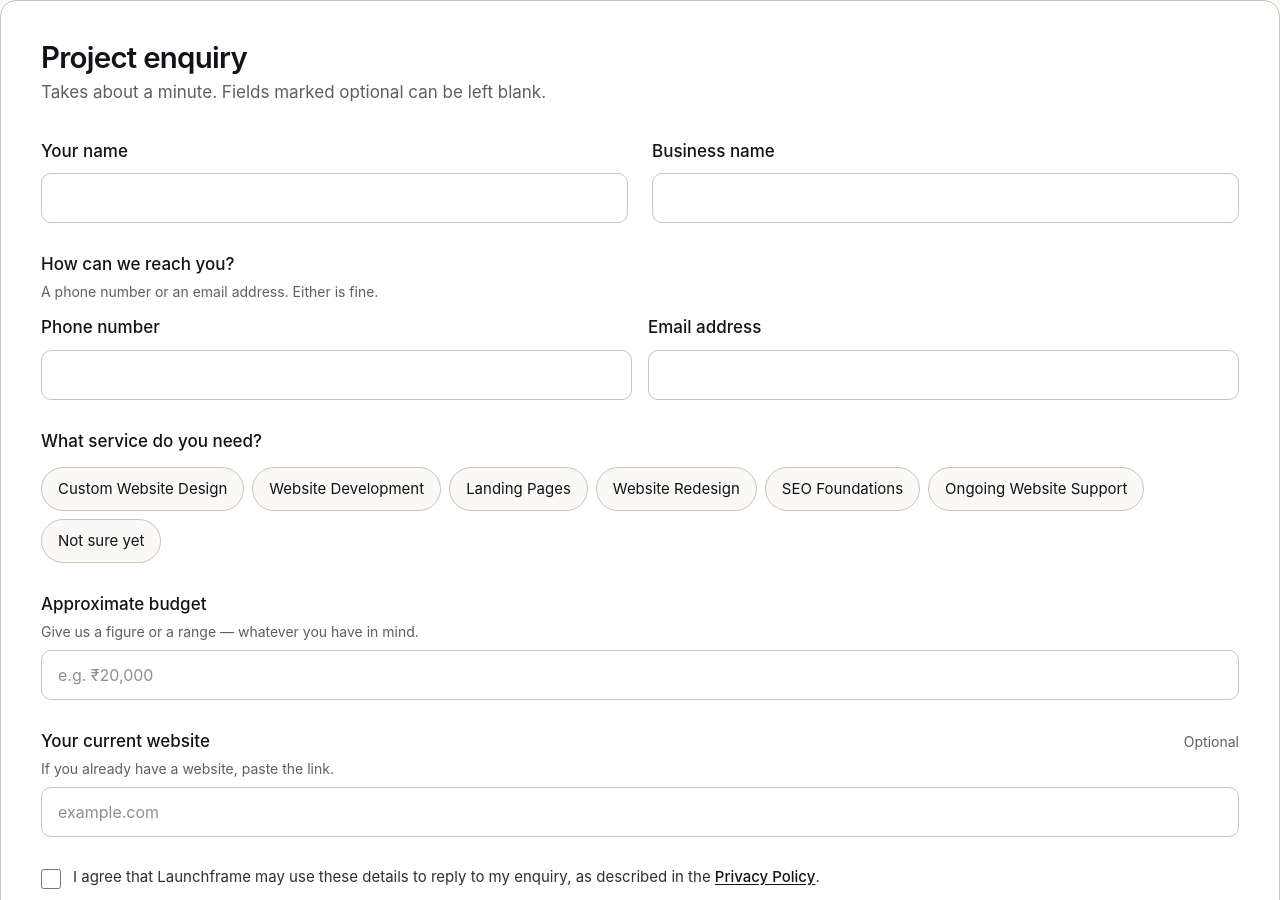
Scenario: EnquiryForm › accepts a phone number instead of an email
The width and height of the screenshot is (1280, 900).
Type "Sam Rivera" into the field labelled "Your name" at x=334, y=198, box [41,173,628,223]
Type "Rivera Plumbing" into the field labelled "Business name" at x=946, y=198, box [652,173,1239,223]
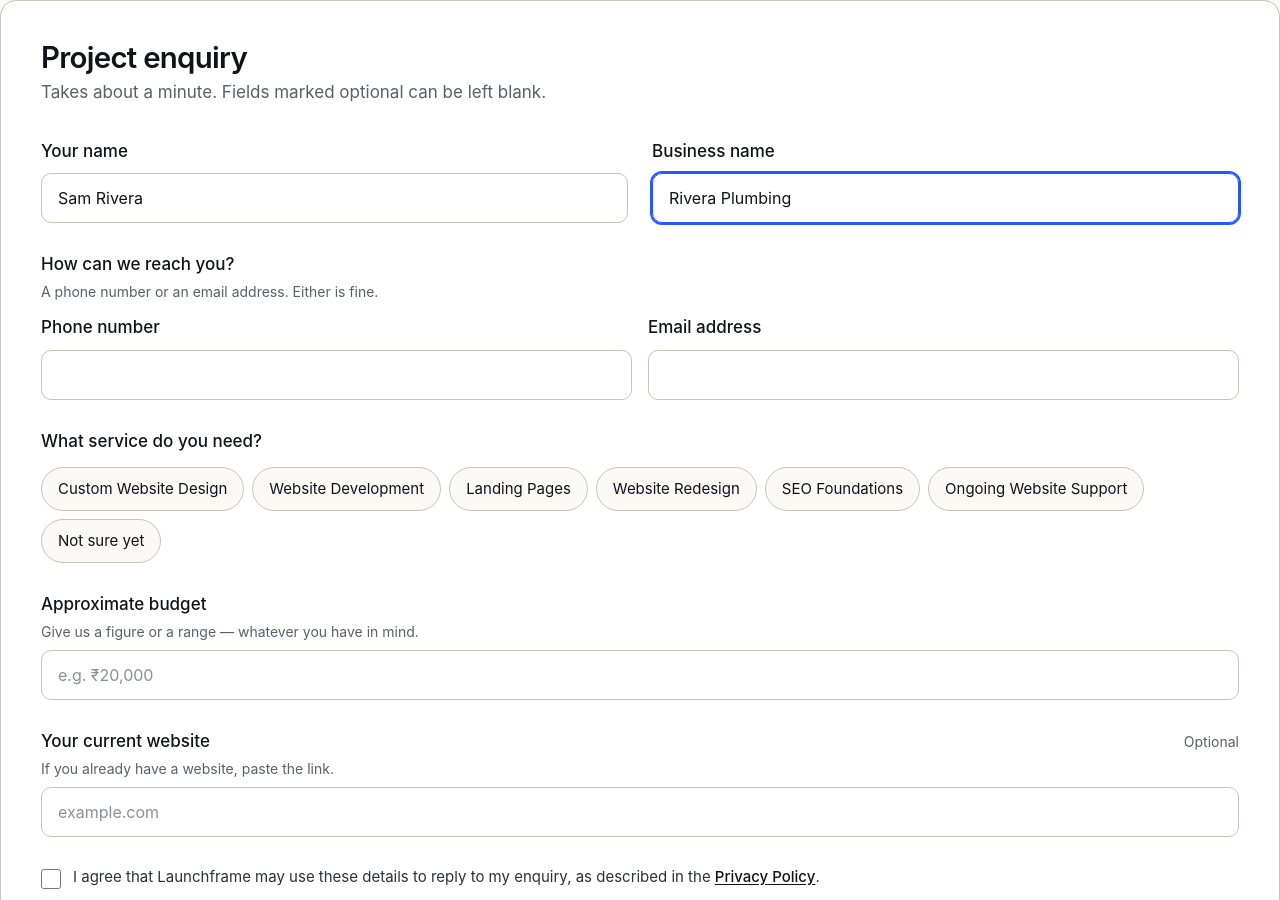
Type "+44 20 7946 0958" into the field labelled "Phone number" at x=336, y=375, box [41,350,632,400]
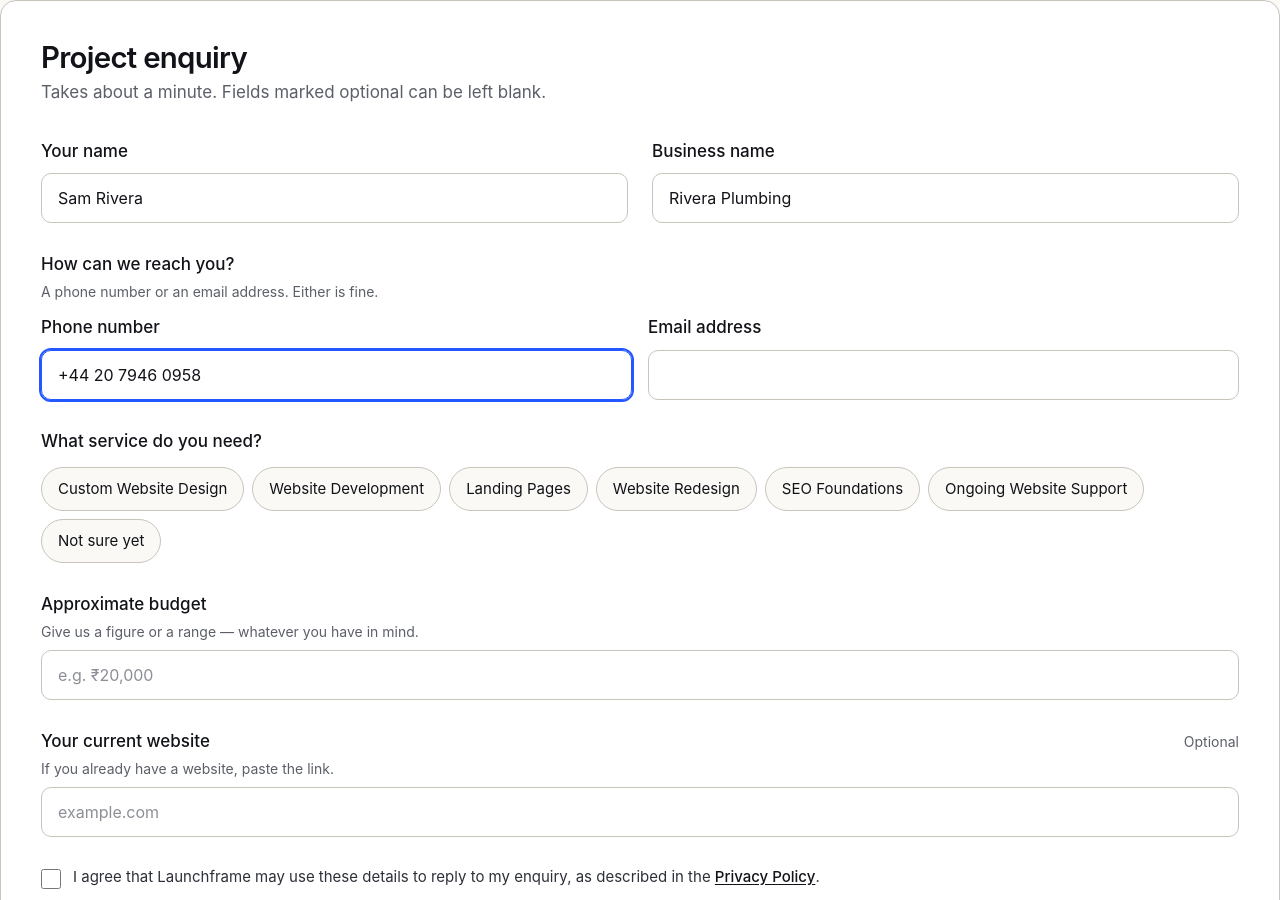
Click the radio button labelled "Website Redesign" at x=676, y=489, box [596,467,757,511]
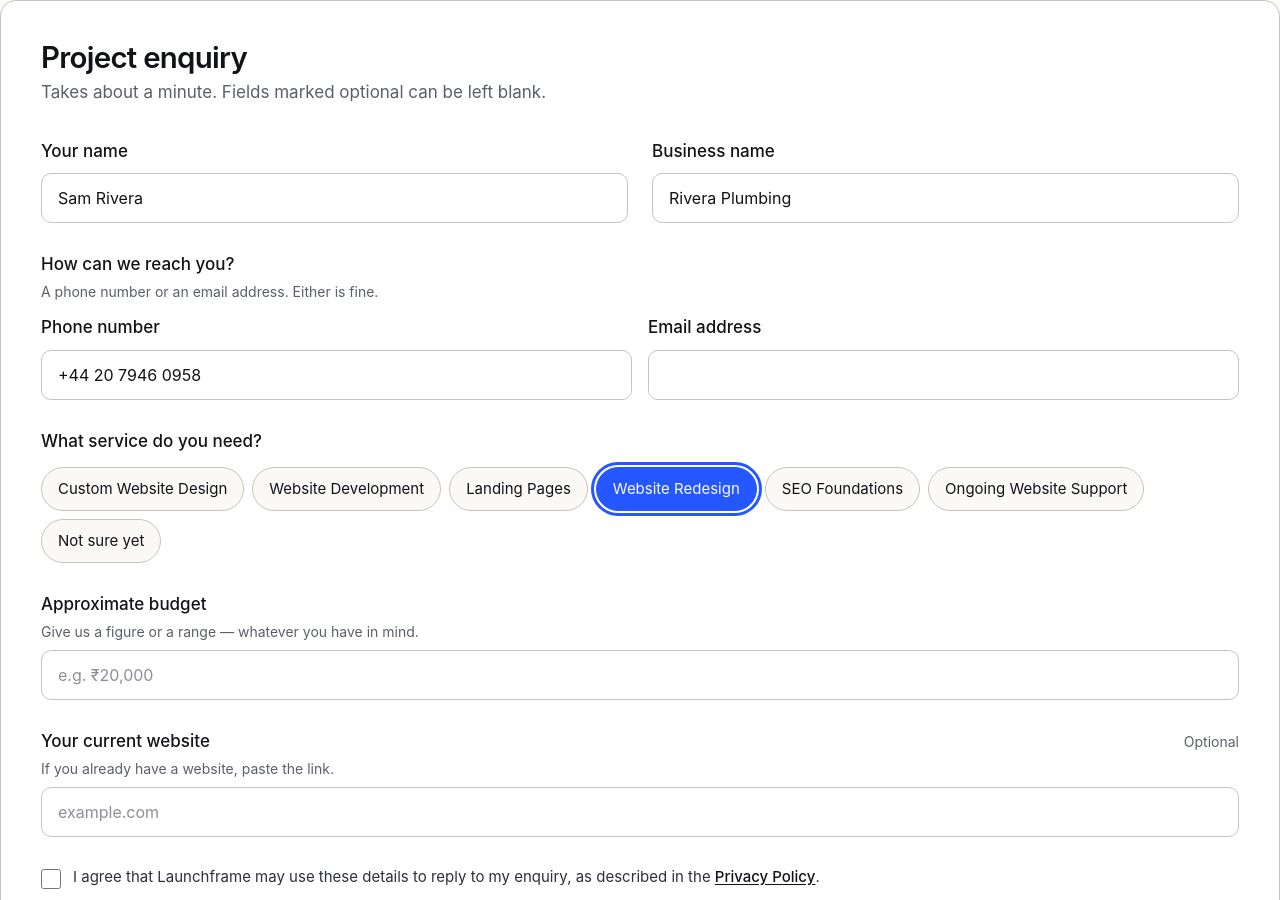
Type "₹20,000" into the field labelled "Approximate budget" at x=640, y=675, box [41,650,1239,700]
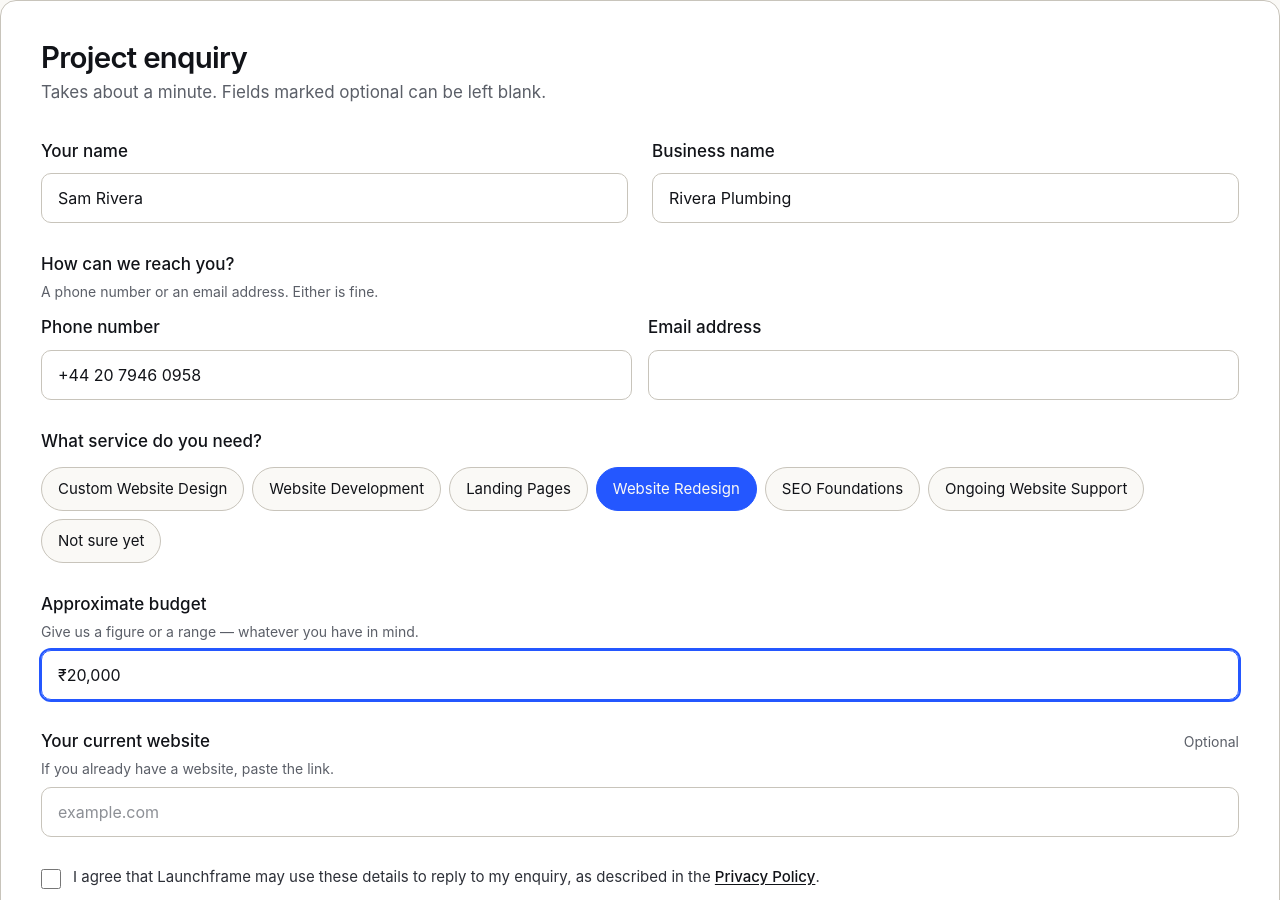
Click the checkbox labelled "I agree" at x=51, y=879, box [41,869,61,889]
(page scrolled)
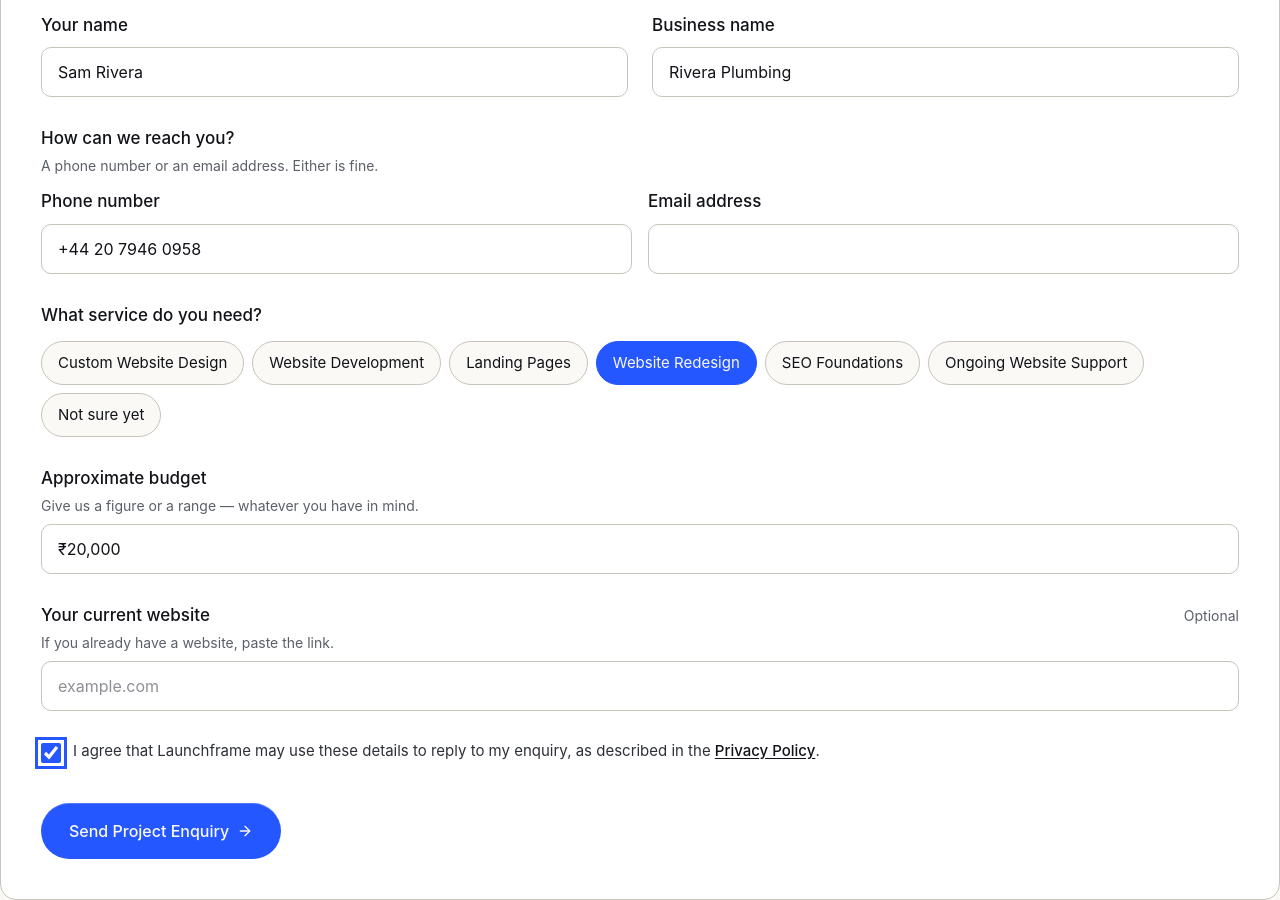
Click the button "Send Project Enquiry" at x=161, y=831, box [41,803,281,859]
(page scrolled)
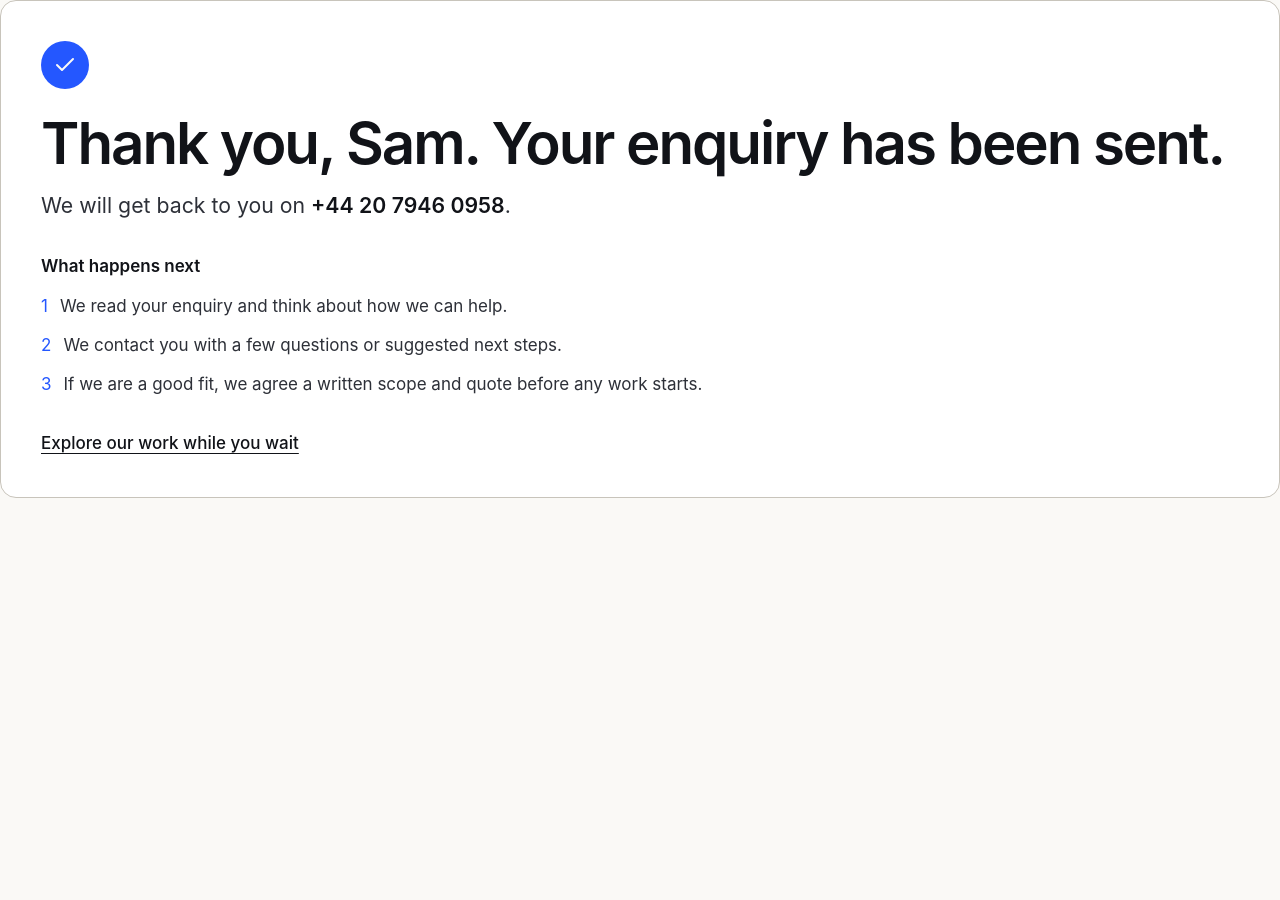
Result: the heading "Thank you, Sam. Your enquiry has been sent." is shown at [41,113,1239,174]
